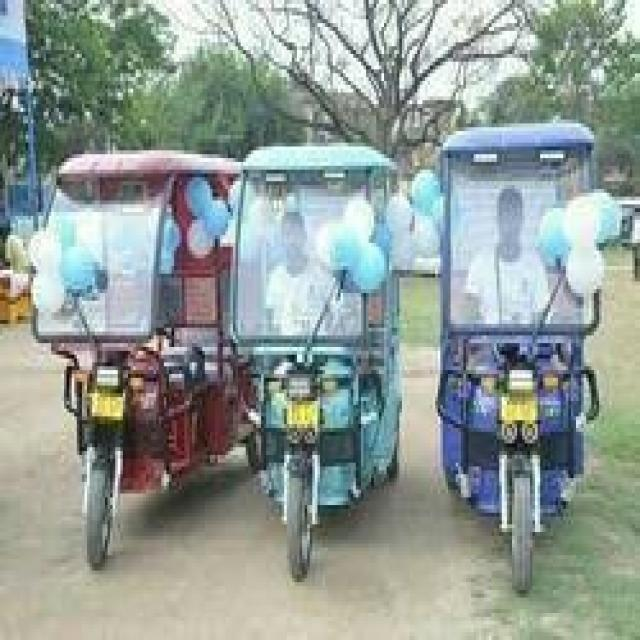Toto: (438, 131, 614, 589), (41, 170, 232, 570), (245, 164, 394, 604)
